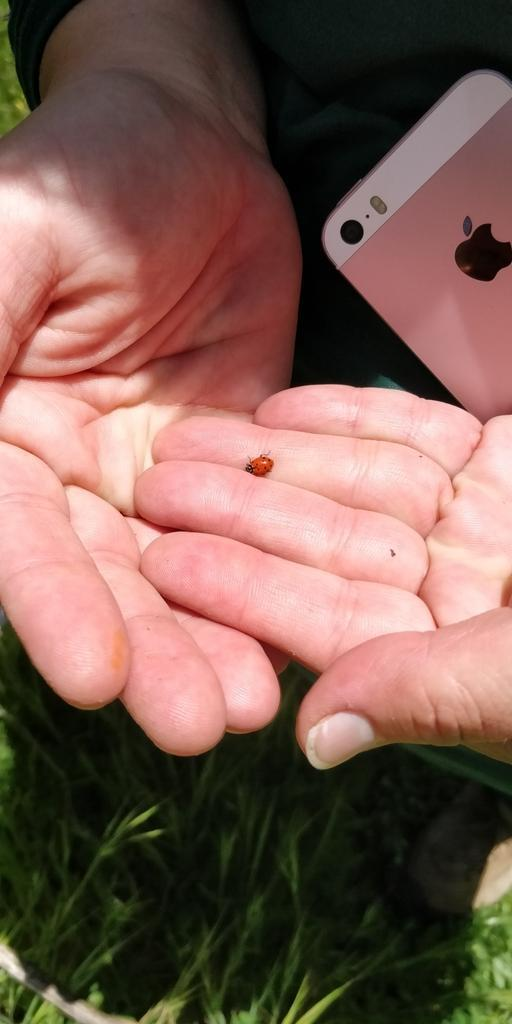ladybug: (244, 451, 279, 481)
